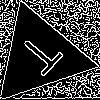T: (15, 30, 72, 84)
